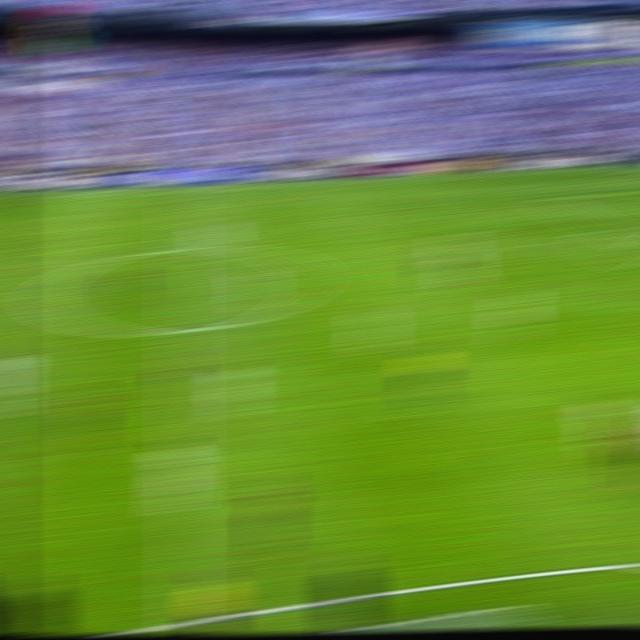halfcircle_bottom: (168, 318, 200, 340)
halfcircle_top: (166, 236, 199, 258)
midline_bottom_intersection: (167, 604, 204, 631)
midline_top_intersection: (169, 184, 198, 193)
